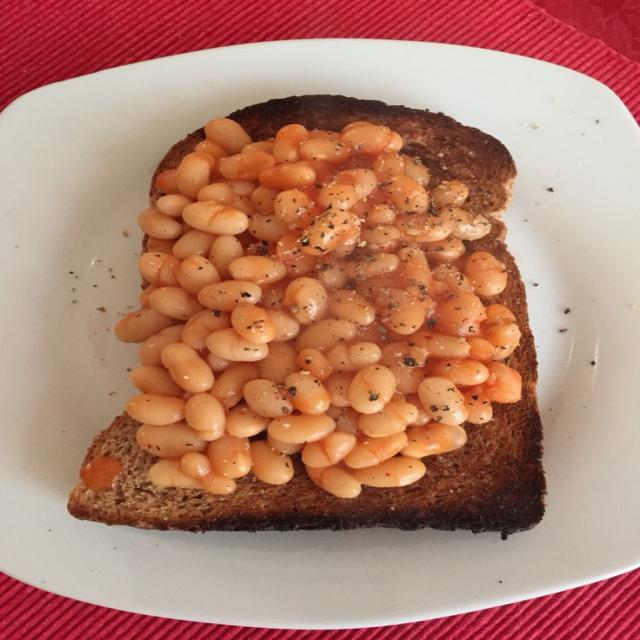beans: (117, 119, 521, 497), (229, 95, 516, 221), (300, 208, 359, 255), (347, 365, 395, 414), (376, 288, 425, 335), (359, 400, 418, 439), (345, 431, 407, 468), (419, 377, 467, 424), (351, 457, 426, 487), (381, 343, 426, 393), (401, 423, 466, 457), (183, 201, 248, 235), (211, 363, 259, 409), (436, 292, 486, 335), (207, 328, 268, 362), (114, 308, 174, 342), (198, 280, 261, 312), (243, 379, 293, 419), (284, 278, 327, 324), (268, 414, 335, 443), (285, 372, 330, 415), (207, 435, 252, 478), (302, 432, 357, 467), (397, 247, 432, 302), (181, 310, 230, 349), (185, 393, 225, 440), (139, 325, 186, 365), (250, 441, 293, 484), (465, 252, 507, 296), (176, 254, 221, 295), (296, 320, 357, 350), (126, 394, 185, 425), (150, 287, 204, 320), (231, 303, 275, 343), (383, 176, 428, 215), (273, 190, 316, 230), (394, 213, 453, 242), (218, 150, 275, 180), (176, 153, 214, 198), (307, 466, 360, 498), (328, 290, 375, 326), (205, 118, 252, 153), (258, 342, 297, 384), (228, 256, 286, 284), (130, 365, 182, 396), (342, 124, 397, 153), (429, 359, 488, 386), (327, 342, 381, 371), (483, 362, 521, 403), (346, 252, 399, 281), (259, 163, 315, 190), (147, 460, 201, 488), (447, 207, 491, 240), (226, 404, 270, 437), (412, 333, 470, 358), (433, 264, 473, 300), (138, 252, 180, 286), (209, 235, 243, 277), (276, 235, 315, 271), (273, 124, 308, 163), (138, 209, 182, 240), (485, 323, 520, 360), (300, 138, 349, 163), (336, 169, 378, 198), (295, 348, 333, 380), (173, 229, 213, 259), (248, 214, 289, 243), (424, 236, 465, 263), (317, 184, 359, 210), (464, 387, 493, 424), (430, 181, 468, 209), (266, 309, 299, 341), (360, 226, 402, 251), (400, 154, 430, 188), (317, 256, 348, 288), (325, 372, 353, 407), (327, 406, 359, 435), (373, 154, 405, 182), (200, 472, 236, 495), (180, 452, 211, 478), (406, 394, 431, 426), (250, 186, 279, 213), (267, 434, 304, 455), (261, 281, 287, 310), (366, 204, 397, 225), (194, 140, 227, 159), (155, 169, 179, 194), (467, 338, 494, 360), (486, 305, 515, 324), (205, 352, 232, 372), (147, 237, 176, 253), (139, 285, 158, 307), (241, 141, 273, 153), (308, 130, 339, 140)
